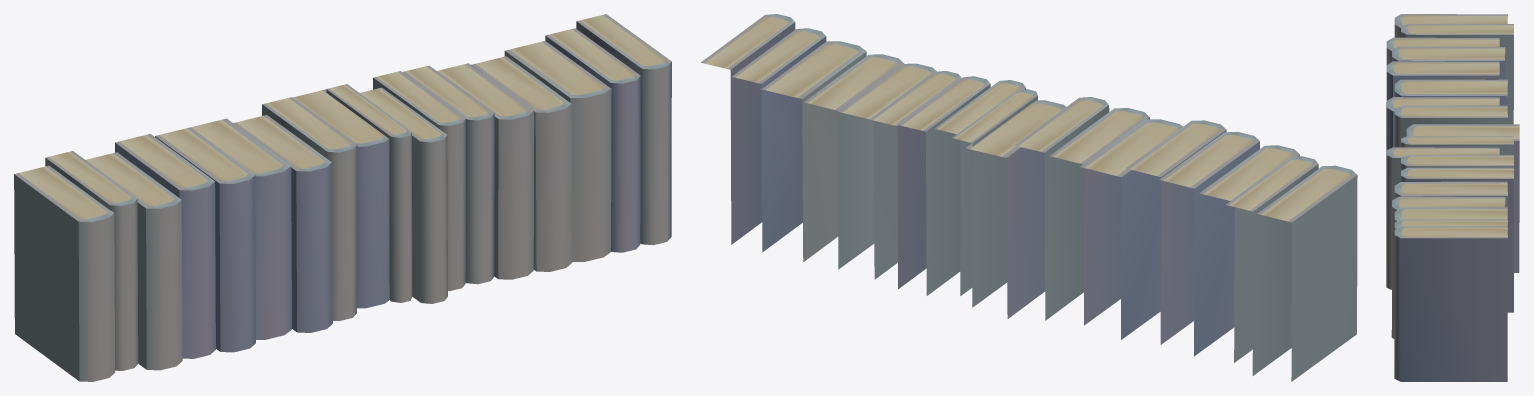
The model's file is BookGroup_Medium_3.glb.
3 views of the same model, side by side, from view 1: azimuth 30°, elevation 25°; view 2: azimuth 150°, elevation 25°; view 3: azimuth 270°, elevation 25° (orthographic). The views are drawn at different scales.
Parts seen in each view (by area): view 1: BookGroup_Medium_3; view 2: BookGroup_Medium_3; view 3: BookGroup_Medium_3.
Boxes of the visible parts, <box> form: BookGroup_Medium_3: <box>14,14,671,381</box>; BookGroup_Medium_3: <box>701,14,1357,381</box>; BookGroup_Medium_3: <box>1386,14,1519,381</box>.
Size of the model in its own units: 1.04 by 0.2949 by 0.2475.
